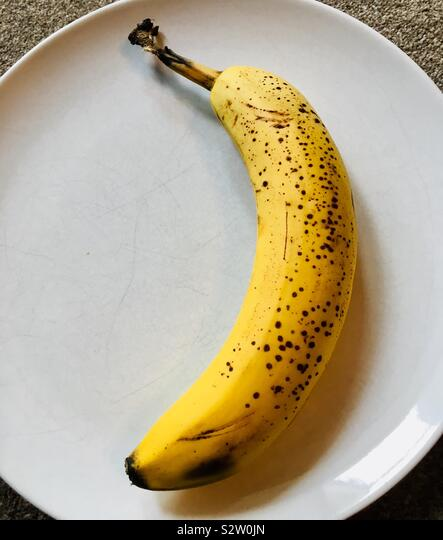Banana: (126, 19, 359, 491)
